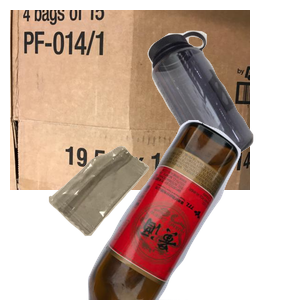cardboard: (10, 10, 250, 190)
glass: (85, 120, 300, 300)
plastic: (145, 28, 300, 192)
trash: (46, 144, 188, 300)
